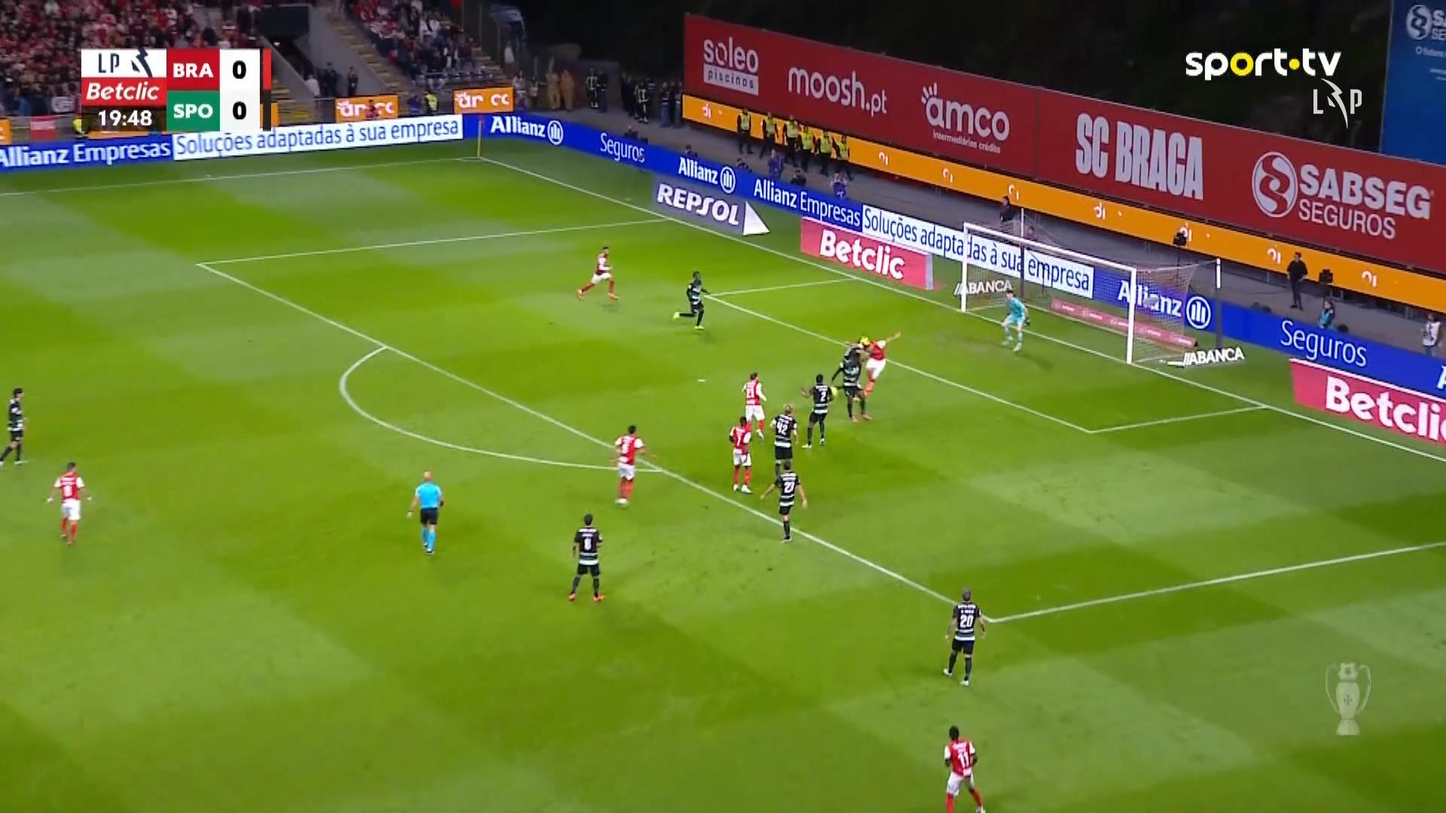ball: (672, 311, 679, 319)
goalkeeper: (999, 288, 1031, 352)
player: (941, 587, 986, 686), (759, 458, 808, 543), (44, 461, 92, 545), (942, 724, 985, 811), (566, 513, 605, 601), (830, 341, 872, 422), (856, 330, 901, 399), (798, 373, 837, 449), (612, 424, 646, 505), (575, 245, 619, 301), (769, 401, 798, 483), (0, 386, 29, 467), (728, 415, 754, 493), (741, 371, 767, 439), (685, 270, 709, 329)
referee: (405, 470, 444, 555)
